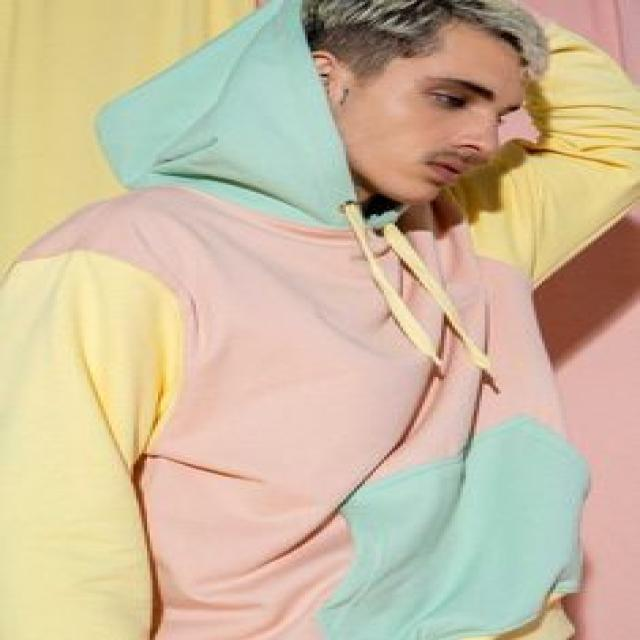4_capucha: (90, 0, 411, 232)
